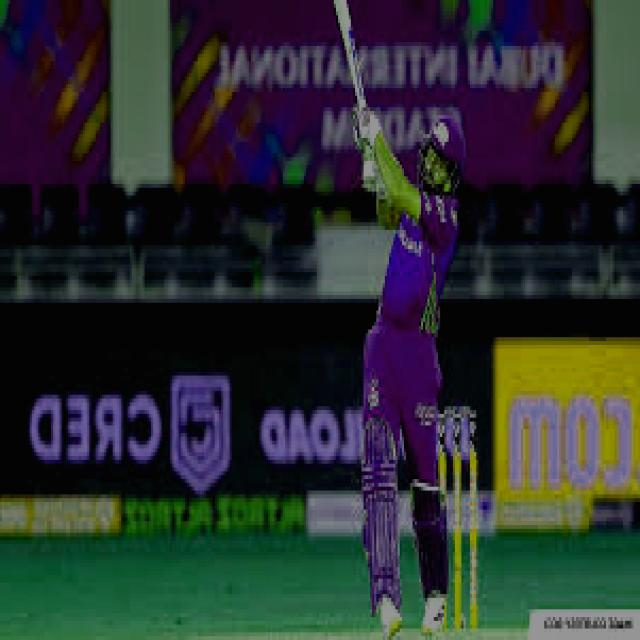toe: (329, 0, 350, 15)
